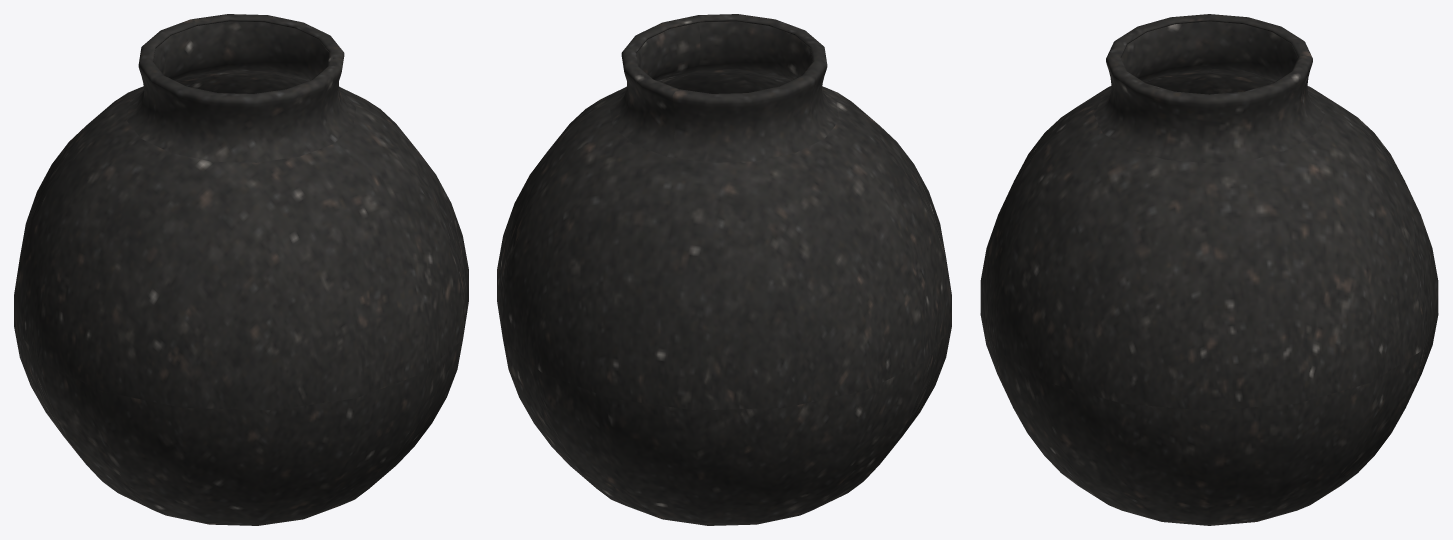
The model's file is florero.fbx.
The picture shows the model from 3 angles, left to right: view 1: azimuth 30°, elevation 25°; view 2: azimuth 150°, elevation 25°; view 3: azimuth 270°, elevation 25°; orthographic projection.
Parts seen in each view (by area): view 1: florero; view 2: florero; view 3: florero.
Boxes of the visible parts, x1=… form: florero: x1=14, y1=14, x2=468, y2=525; florero: x1=497, y1=14, x2=951, y2=525; florero: x1=980, y1=14, x2=1438, y2=525.
Bounding box in the file's own units: 1628 × 1729 × 1628.
